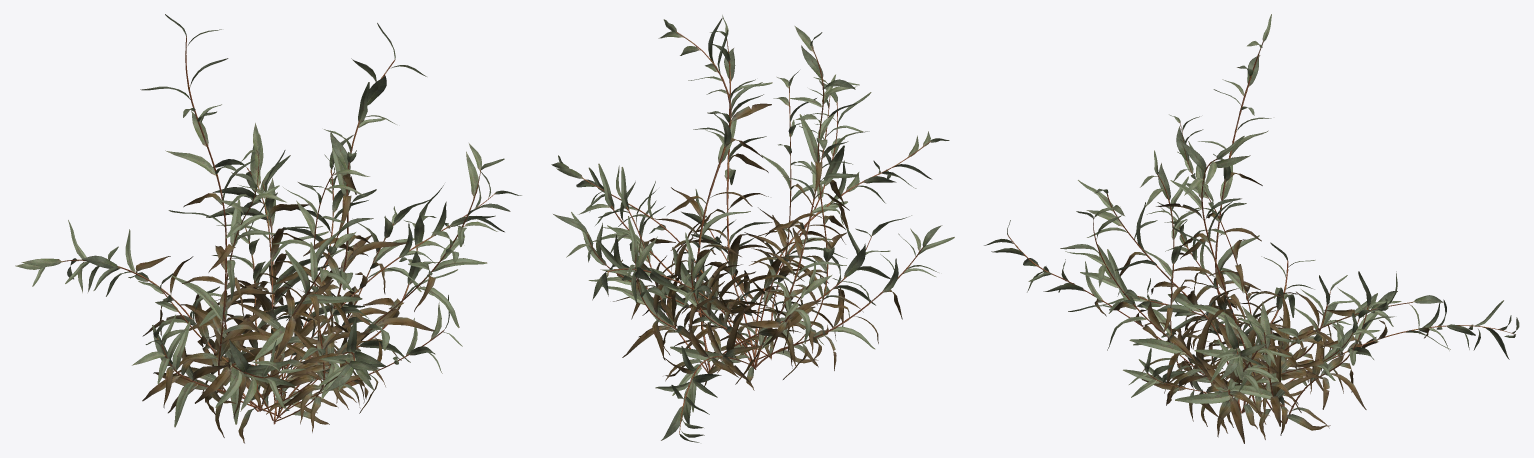
File: shrub_02.glb
3 renders of one model, left to right at view 1: azimuth 30°, elevation 25°; view 2: azimuth 150°, elevation 25°; view 3: azimuth 270°, elevation 25°, orthographic. The views are drawn at different scales.
Parts seen in each view (by area): view 1: shrub_02_a_lod0, shrub_02_c_lod0, shrub_02_b_lod0, shrub_02_d_lod0; view 2: shrub_02_c_lod0, shrub_02_a_lod0, shrub_02_b_lod0, shrub_02_d_lod0; view 3: shrub_02_a_lod0, shrub_02_b_lod0, shrub_02_c_lod0, shrub_02_d_lod0.
Boxes of the visible parts, <box> form: shrub_02_a_lod0: <box>140,14,510,443</box>; shrub_02_c_lod0: <box>15,123,521,437</box>; shrub_02_b_lod0: <box>172,23,433,424</box>; shrub_02_d_lod0: <box>138,134,462,432</box>; shrub_02_c_lod0: <box>551,77,954,442</box>; shrub_02_a_lod0: <box>578,15,871,364</box>; shrub_02_b_lod0: <box>598,17,911,384</box>; shrub_02_d_lod0: <box>553,70,831,367</box>; shrub_02_a_lod0: <box>1060,14,1443,443</box>; shrub_02_b_lod0: <box>1102,136,1401,439</box>; shrub_02_c_lod0: <box>984,114,1519,427</box>; shrub_02_d_lod0: <box>1123,150,1380,426</box>.
Size of what is drawn, in the model's own units: 1.77 by 1.69 by 2.29.
Materials: 1 (1 with a texture image).
